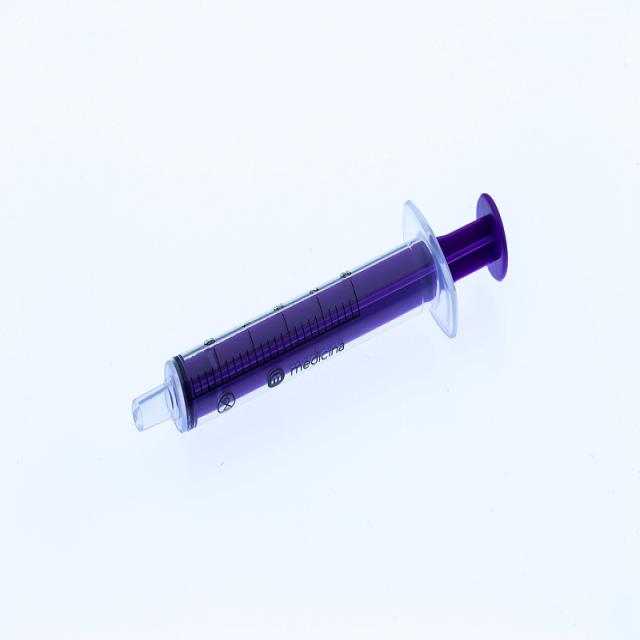syringe: (130, 190, 509, 436)
